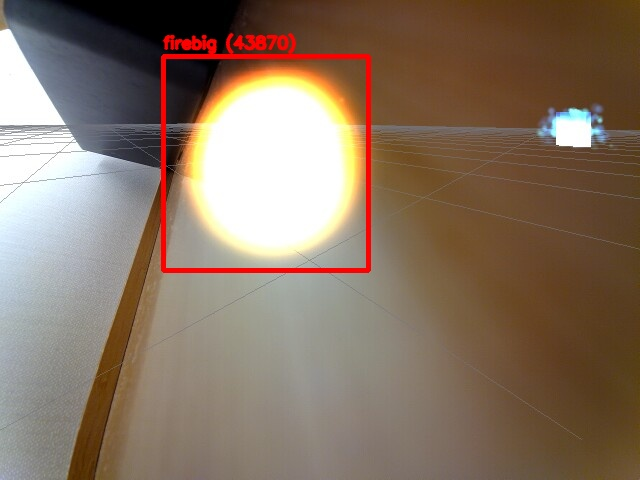firebig: (163, 56, 368, 270)
